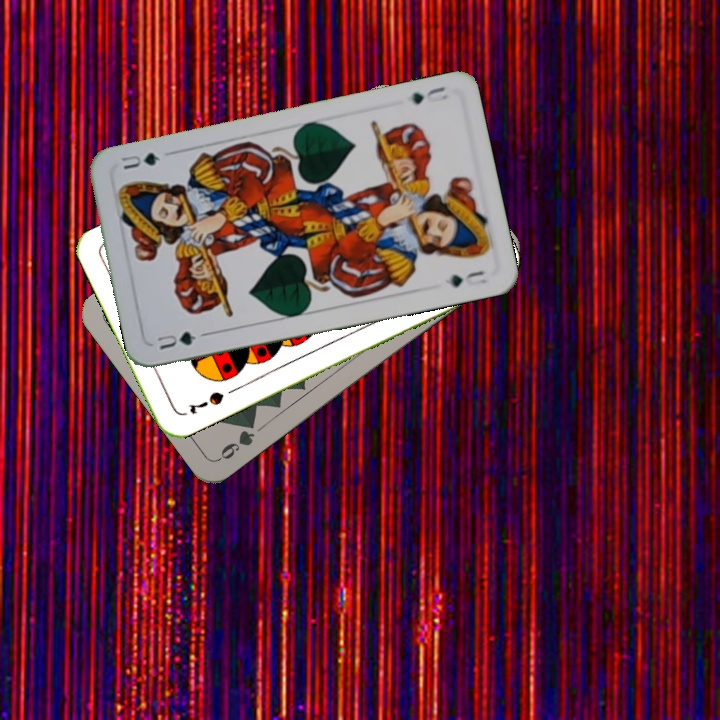G9: (214, 415, 258, 464)
GU: (153, 327, 199, 353), (407, 83, 450, 107)
S7: (185, 387, 227, 417)
